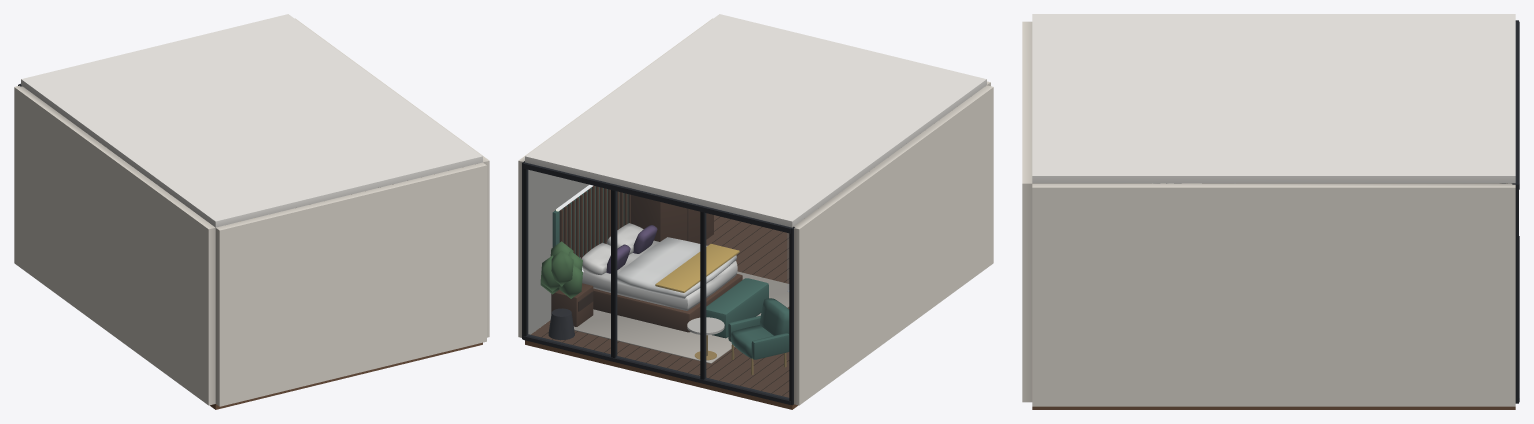
File: os-standard.glb
3 views of the same model, side by side, from view 1: azimuth 30°, elevation 25°; view 2: azimuth 150°, elevation 25°; view 3: azimuth 270°, elevation 25° (orthographic). The views are drawn at different scales.
Parts seen in each view (by area): view 1: Room_wall, Room_ceiling, Room_floor; view 2: Room_ceiling, Room_wall, Room_glass, Room_floor, Room_wood, Room_frameDark, Room_fabric2, Room_rug, Room_linen, Room_duvet, Room_leaf, Room_throw (+5 smaller); view 3: Room_wall, Room_ceiling, Room_floor, Room_frameDark.
Boxes of the visible parts, x1=… form: Room_wall: x1=14, y1=18, x2=489, y2=406; Room_ceiling: x1=21, y1=14, x2=482, y2=227; Room_floor: x1=210, y1=342, x2=482, y2=409; Room_ceiling: x1=525, y1=14, x2=986, y2=227; Room_wall: x1=518, y1=18, x2=993, y2=405; Room_glass: x1=527, y1=170, x2=788, y2=398; Room_floor: x1=525, y1=215, x2=797, y2=409; Room_wood: x1=551, y1=186, x2=742, y2=332; Room_frameDark: x1=522, y1=161, x2=794, y2=405; Room_fabric2: x1=706, y1=278, x2=789, y2=359; Room_rug: x1=574, y1=271, x2=789, y2=363; Room_linen: x1=581, y1=223, x2=737, y2=310; Room_duvet: x1=617, y1=237, x2=736, y2=298; Room_leaf: x1=540, y1=241, x2=582, y2=298; Room_throw: x1=655, y1=243, x2=739, y2=292; Room_wall: x1=1022, y1=21, x2=1515, y2=406; Room_ceiling: x1=1032, y1=14, x2=1515, y2=183; Room_floor: x1=1032, y1=406, x2=1515, y2=409; Room_frameDark: x1=1502, y1=20, x2=1519, y2=403.
Bounding box in the file's own units: 4.84 × 3.1 × 5.97.
